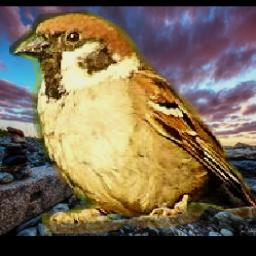Sparrow: (9, 11, 256, 234)
